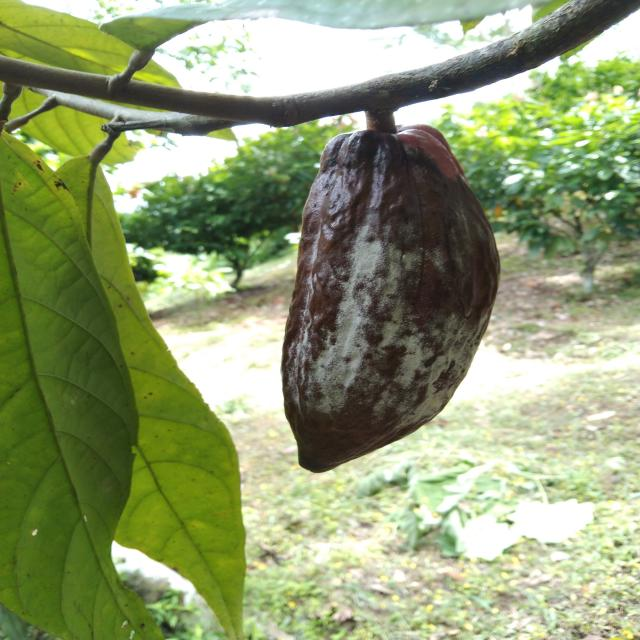Monilia: (279, 125, 501, 474)
